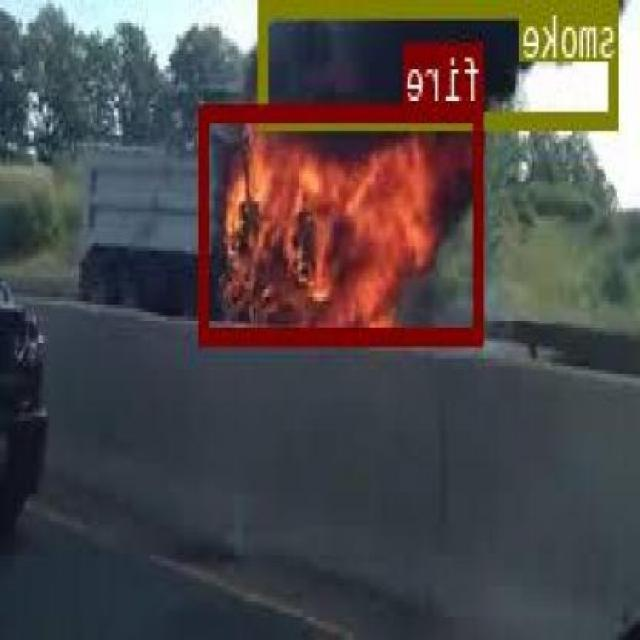Fire: (202, 101, 486, 341)
Smoke: (261, 0, 621, 128)
